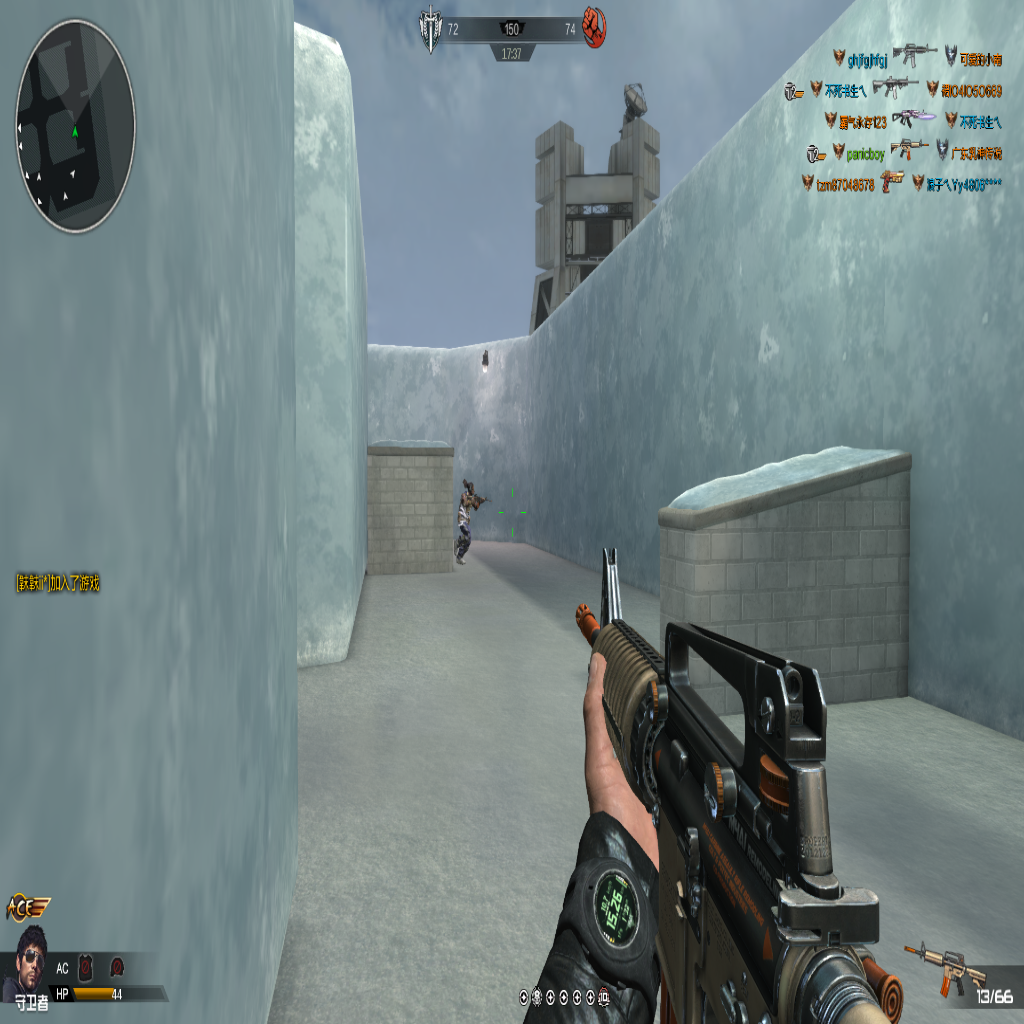tt: (457, 480, 487, 558)
